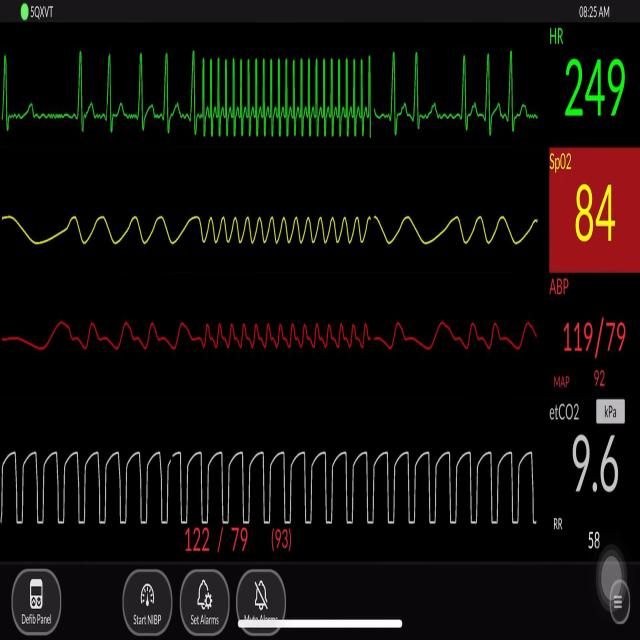danger: (188, 36, 377, 155)
